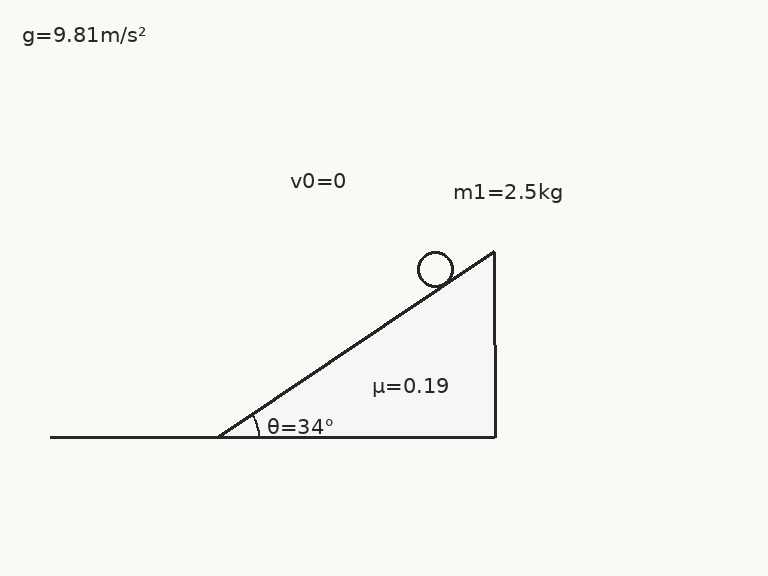ball: (415, 249, 455, 289)
ramp: (217, 249, 496, 439)
